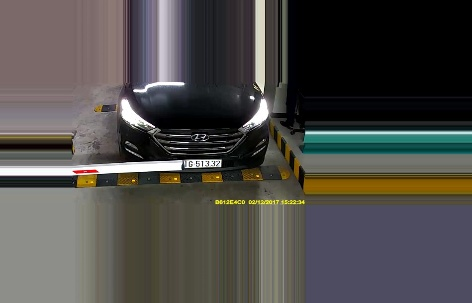plate: (181, 157, 222, 169)
